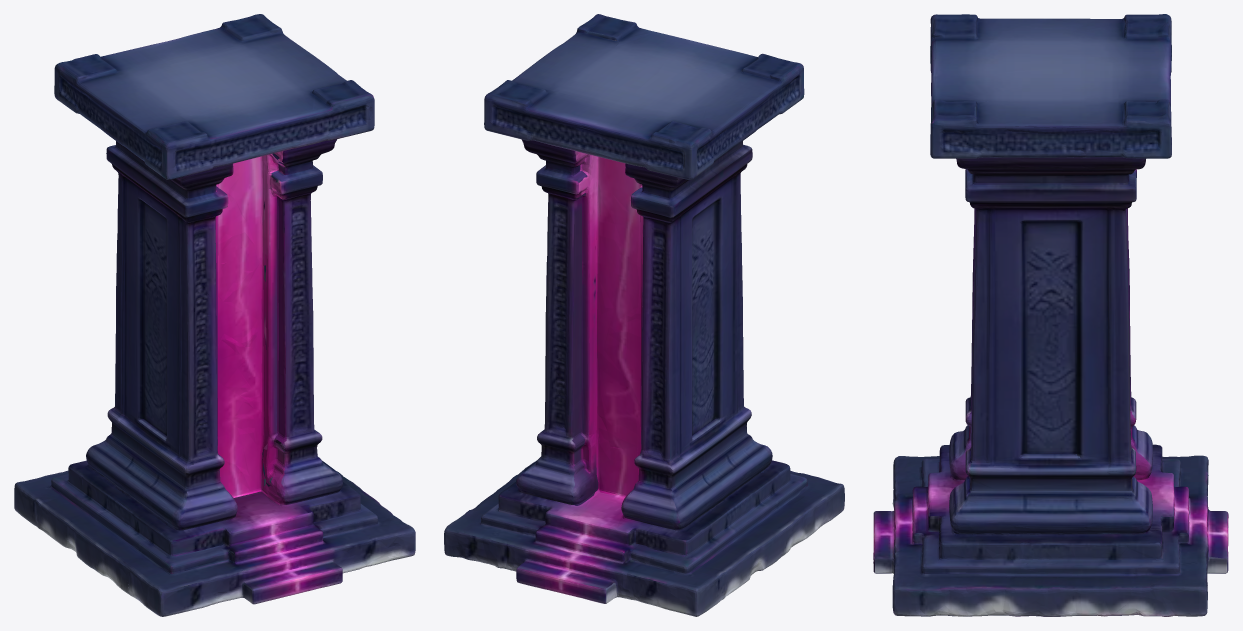
File: weathered-monolith-pillar-generated-2026-04-19T23-30-13-924Z.low.glb
3 renders of one model, left to right at view 1: azimuth 30°, elevation 25°; view 2: azimuth 150°, elevation 25°; view 3: azimuth 270°, elevation 25°, orthographic. The views are drawn at different scales.
Visible parts, largest first — view 1: temp_mesh.ply; view 2: temp_mesh.ply; view 3: temp_mesh.ply.
Part boxes in pixels (<box>): temp_mesh.ply: <box>14,14,415,616</box>; temp_mesh.ply: <box>444,14,844,616</box>; temp_mesh.ply: <box>873,14,1228,616</box>.
Size of the model in its own units: 1.17 by 1.97 by 1.31.
1 material, 1 textured.
